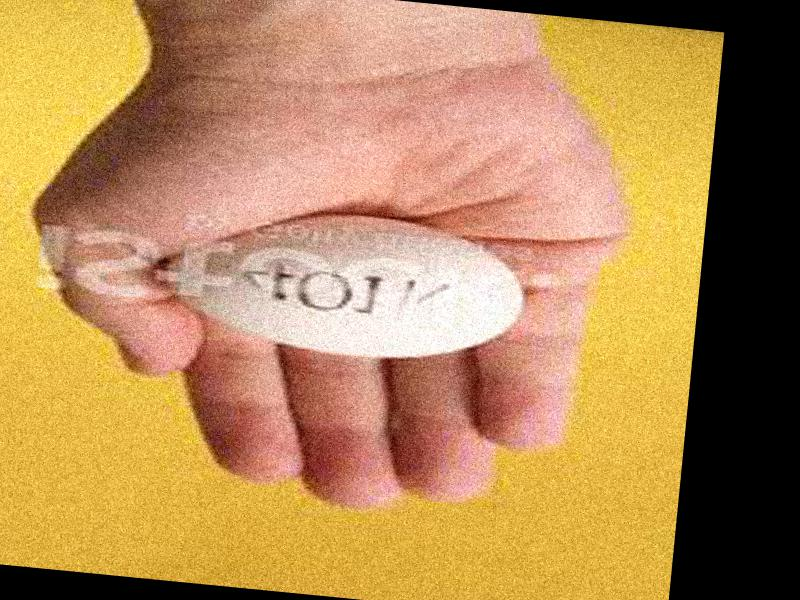Eggs: (159, 199, 529, 371)
